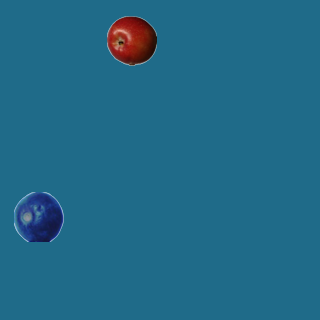Apple Braeburn: (106, 15, 156, 65)
Huckleberry: (13, 191, 63, 241)
